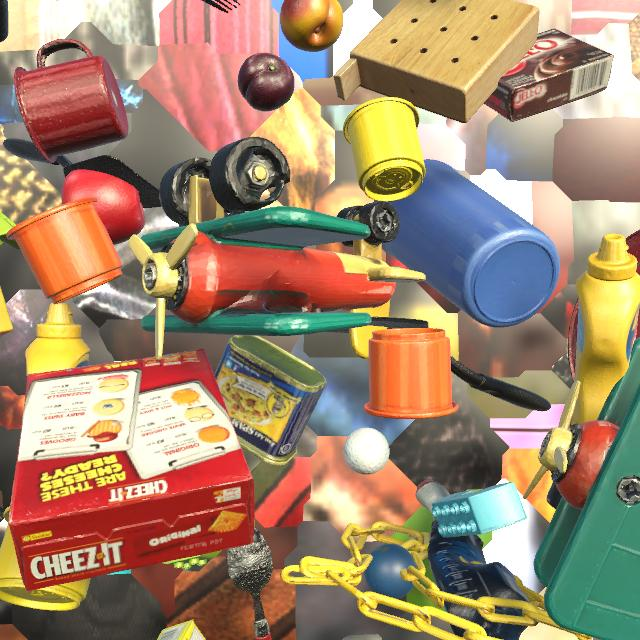ycb_003_cracker_box: (8, 349, 255, 591)
ycb_004_sugar_box: (157, 619, 206, 640)
ycb_006_mustard_bottle: (571, 234, 640, 425), (25, 303, 91, 375)
ycb_008_pudding_box: (484, 28, 614, 122)
ycb_010_potted_meat_can: (214, 335, 326, 466)
ycb_013_apple: (62, 169, 145, 245)
ycb_015_peach: (280, 0, 343, 52)
ycb_018_plum: (238, 52, 295, 112)
